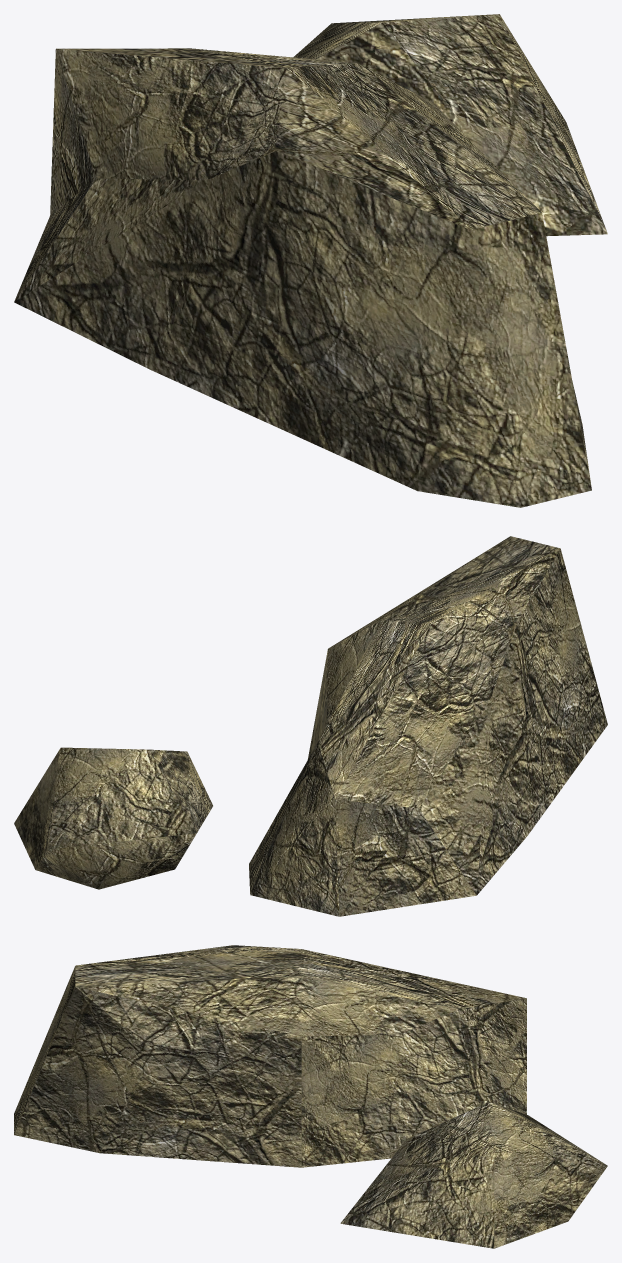
File: stonemine_tropic_0.glb
The picture shows the model from 3 angles, top to bottom: view 1: azimuth 30°, elevation 25°; view 2: azimuth 150°, elevation 25°; view 3: azimuth 270°, elevation 25°; orthographic projection. The views are drawn at different scales.
Parts seen in each view (by area): view 1: stonemine_tropic_0; view 2: stonemine_tropic_0; view 3: stonemine_tropic_0.
Boxes of the visible parts, x1,y1,x2,y2 form: stonemine_tropic_0: (14,14,607,507); stonemine_tropic_0: (14,536,607,916); stonemine_tropic_0: (14,945,607,1248).
Bounding box in the file's own units: 2.8 × 1.21 × 3.87.
1 material, 1 textured.
